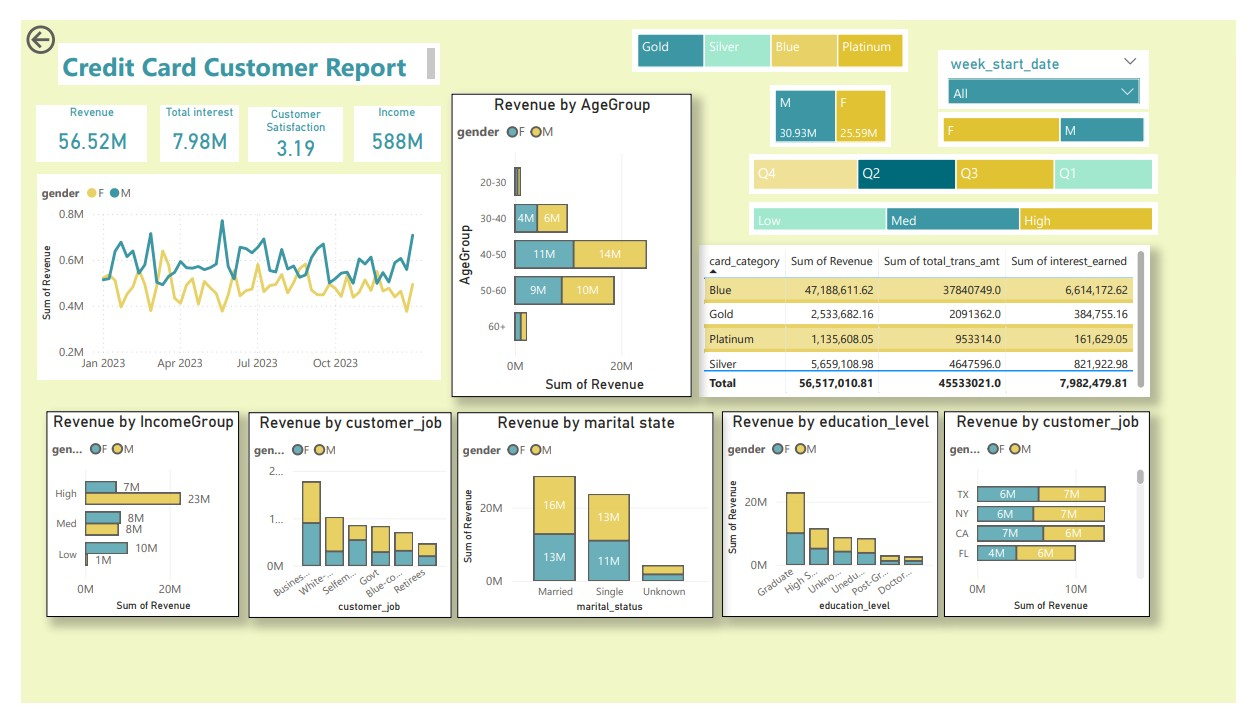

The dashboard page shown, as its layout file describes it:
{"tool":"powerbi","page":{"name":"customer","canvas":[1280,720],"ordinal":2},"visuals":[{"type":"textbox","box":[37.8,24.4,402.2,43.3],"z":0},{"type":"clusteredBarChart","title":"Revenue by IncomeGroup","fields":{"Y":["Sum(public cc_detail.Revenue)"],"Category":["public cust_detail.IncomeGroup"],"Series":["public cust_detail.gender"]},"box":[25.6,412.2,203.3,216.7],"z":1000},{"type":"tableEx","fields":{"Values":["public cc_detail.card_category","Sum(public cc_detail.Revenue)","Sum(public cc_detail.total_trans_amt)","Sum(public cc_detail.interest_earned)"]},"box":[714.4,236.7,474.4,160],"z":2000},{"type":"card","title":"Revenue","fields":{"Values":["Sum(public cc_detail.Revenue)"]},"box":[15.6,88.9,116.7,60],"z":3000},{"type":"card","title":"Total interest","fields":{"Values":["Sum(public cc_detail.interest_earned)"]},"box":[145.6,88.9,83.3,60],"z":4000},{"type":"card","title":"Income","fields":{"Values":["Sum(public cust_detail.income)"]},"box":[350,90,91.1,58.9],"z":5000},{"type":"card","title":"Customer Satisfaction","fields":{"Values":["Avg(public cust_detail.cust_satisfaction_score)"]},"box":[238.9,92.2,100,56.7],"z":6000},{"type":"slicer","fields":{"Values":["public cc_detail.week_start_date"]},"box":[965.6,31.1,222.2,62.2],"z":7000},{"type":"treemap","fields":{"Group":["public cc_detail.qtr"],"Values":["CountNonNull(public cc_detail.client_num)"]},"box":[765.6,141.1,431.1,42.2],"z":8000},{"type":"treemap","fields":{"Group":["public cust_detail.gender","public cc_detail.qtr"],"Values":["CountNonNull(public cc_detail.client_num)"]},"box":[965.6,96.7,222.2,36.7],"z":9000},{"type":"treemap","fields":{"Group":["public cc_detail.card_category"],"Values":["Avg(public cc_detail.client_num)"]},"box":[644.4,8.9,290,45.6],"z":10000},{"type":"treemap","fields":{"Values":["Avg(public cc_detail.client_num)"],"Group":["public cust_detail.IncomeGroup"]},"box":[765.6,192.2,431.1,33.3],"z":11000},{"type":"lineChart","fields":{"Y":["Sum(public cc_detail.Revenue)"],"Series":["public cust_detail.gender"],"Category":["public cc_detail.week_start_date.Variation.Date Hierarchy.Year","public cc_detail.week_start_date.Variation.Date Hierarchy.Month","public cc_detail.week_start_date.Variation.Date Hierarchy.Day"]},"box":[15.6,162.2,425.6,216.7],"z":12000},{"type":"treemap","fields":{"Group":["public cust_detail.gender"],"Values":["Sum(public cc_detail.Revenue)"]},"box":[788.9,67.8,126.7,65.6],"z":13000},{"type":"actionButton","box":[0,0,100,40],"z":14000},{"type":"barChart","title":"Revenue by AgeGroup","fields":{"Category":["public cust_detail.AgeGroup"],"Y":["Sum(public cc_detail.Revenue)"],"Series":["public cust_detail.gender"]},"box":[453.3,76.7,252.2,320],"z":15000},{"type":"columnChart","title":"Revenue by customer_job","fields":{"Category":["public cust_detail.customer_job"],"Y":["Sum(public cc_detail.Revenue)"],"Series":["public cust_detail.gender"]},"box":[238.9,413.3,214.4,216.7],"z":16000},{"type":"columnChart","title":"Revenue by education_level","fields":{"Category":["public cust_detail.education_level"],"Y":["Sum(public cc_detail.Revenue)"],"Series":["public cust_detail.gender"]},"box":[737.8,412.2,227.8,216.7],"z":17000},{"type":"barChart","title":"Revenue by customer_job","fields":{"Category":["public cust_detail.state_cd"],"Y":["Sum(public cc_detail.Revenue)"],"Series":["public cust_detail.gender"]},"box":[972.2,412.2,216.7,216.7],"z":18000},{"type":"columnChart","title":"Revenue by marital state","fields":{"Y":["Sum(public cc_detail.Revenue)"],"Category":["public cust_detail.marital_status"],"Series":["public cust_detail.gender"]},"box":[458.9,413.3,270,216.7],"z":19000}]}

Visuals, with their boxes in screenshot pixels (x1, y1, x2, y2), scaled from the page's 1280x720 canvas onto the 1251x712 screenshot:
textbox: 37:24:430:67
"Revenue by IncomeGroup" clusteredBarChart: 25:408:224:622
tableEx - public cc_detail.card_category x Sum(public cc_detail.Revenue): 698:234:1162:392
"Revenue" card: 15:88:129:147
"Total interest" card: 142:88:224:147
"Income" card: 342:89:431:147
"Customer Satisfaction" card: 233:91:331:147
slicer - public cc_detail.week_start_date: 944:31:1161:92
treemap - public cc_detail.qtr x CountNonNull(public cc_detail.client_num): 748:140:1170:181
treemap - public cust_detail.gender x public cc_detail.qtr: 944:96:1161:132
treemap - public cc_detail.card_category x Avg(public cc_detail.client_num): 630:9:913:54
treemap - Avg(public cc_detail.client_num) x public cust_detail.IncomeGroup: 748:190:1170:223
lineChart - Sum(public cc_detail.Revenue) x public cust_detail.gender: 15:160:431:375
treemap - public cust_detail.gender x Sum(public cc_detail.Revenue): 771:67:895:132
actionButton: 0:0:98:40
"Revenue by AgeGroup" barChart: 443:76:690:392
"Revenue by customer_job" columnChart: 233:409:443:623
"Revenue by education_level" columnChart: 721:408:944:622
"Revenue by customer_job" barChart: 950:408:1162:622
"Revenue by marital state" columnChart: 449:409:712:623
